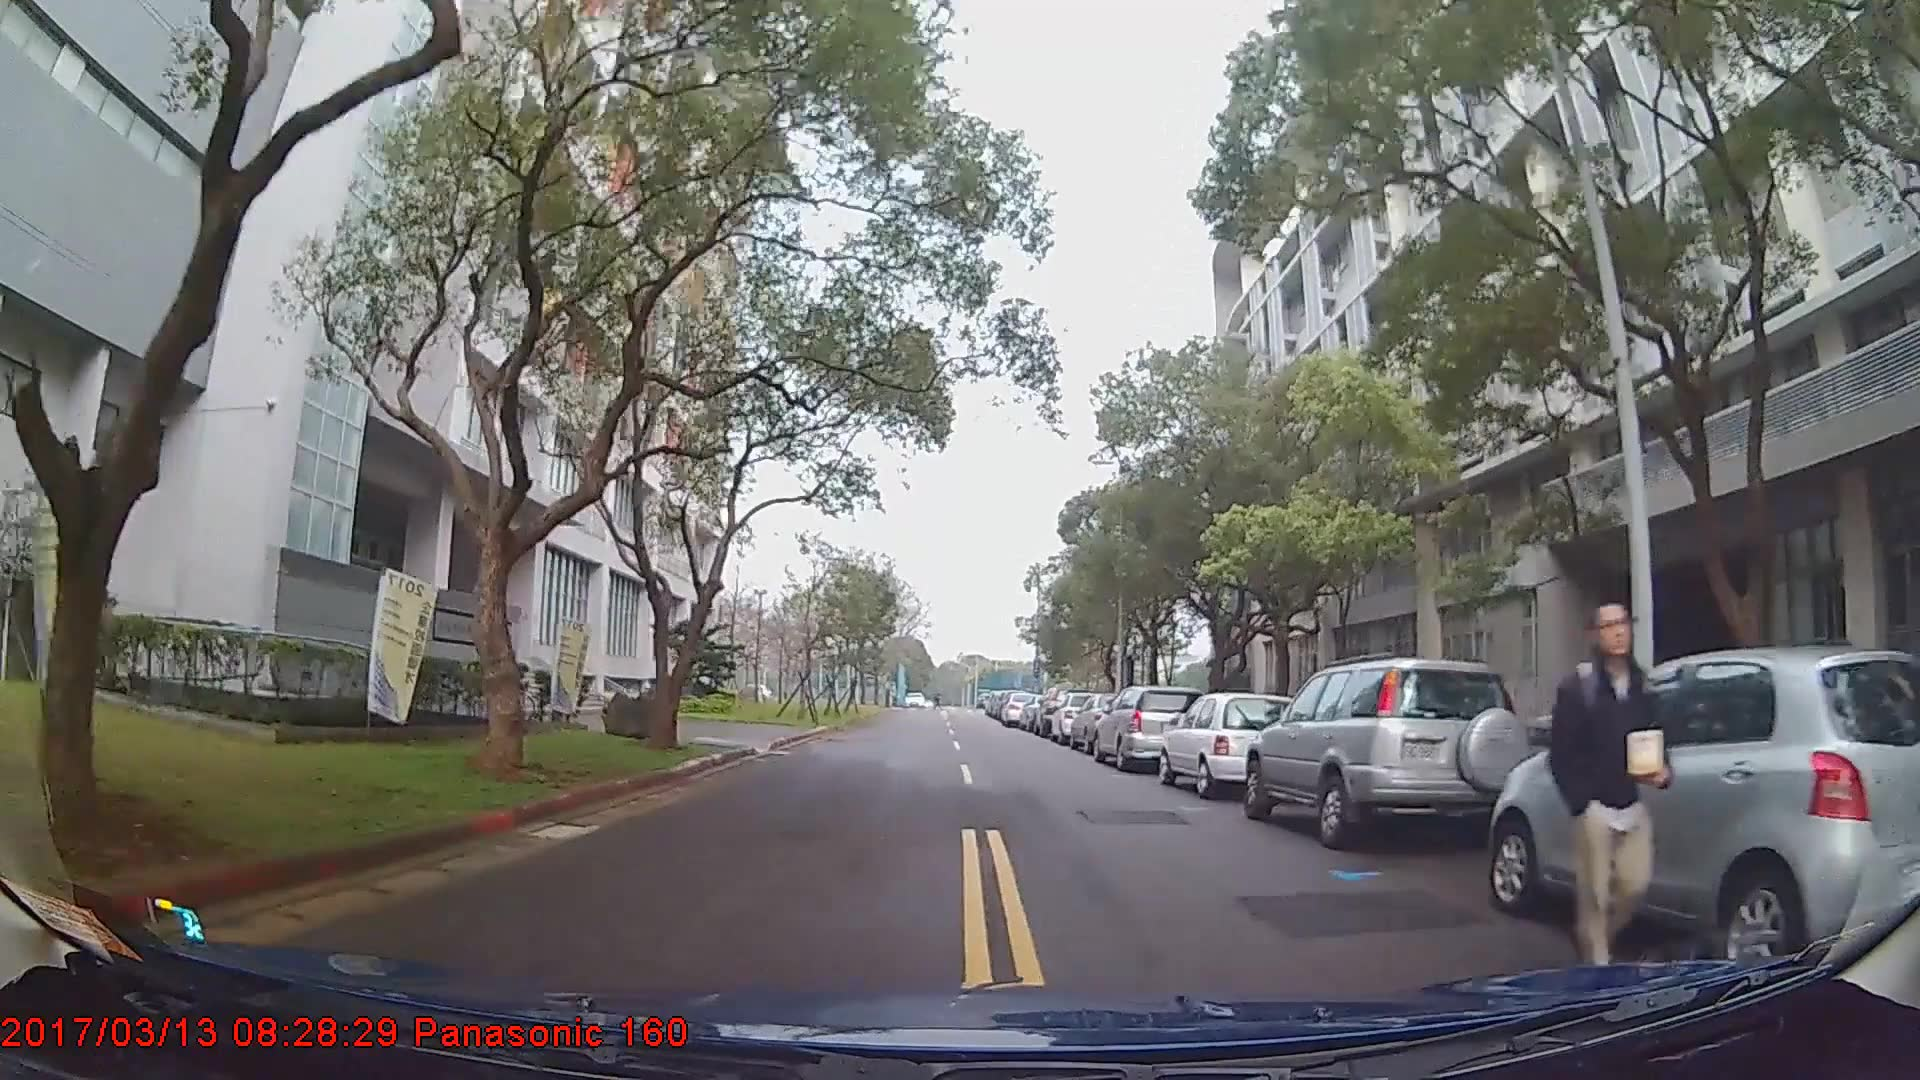pedestrian: (1551, 591, 1681, 995)
vehicle: (1486, 641, 1919, 980), (1243, 653, 1534, 851), (1156, 690, 1301, 799), (1091, 682, 1205, 770), (999, 688, 1040, 727)
